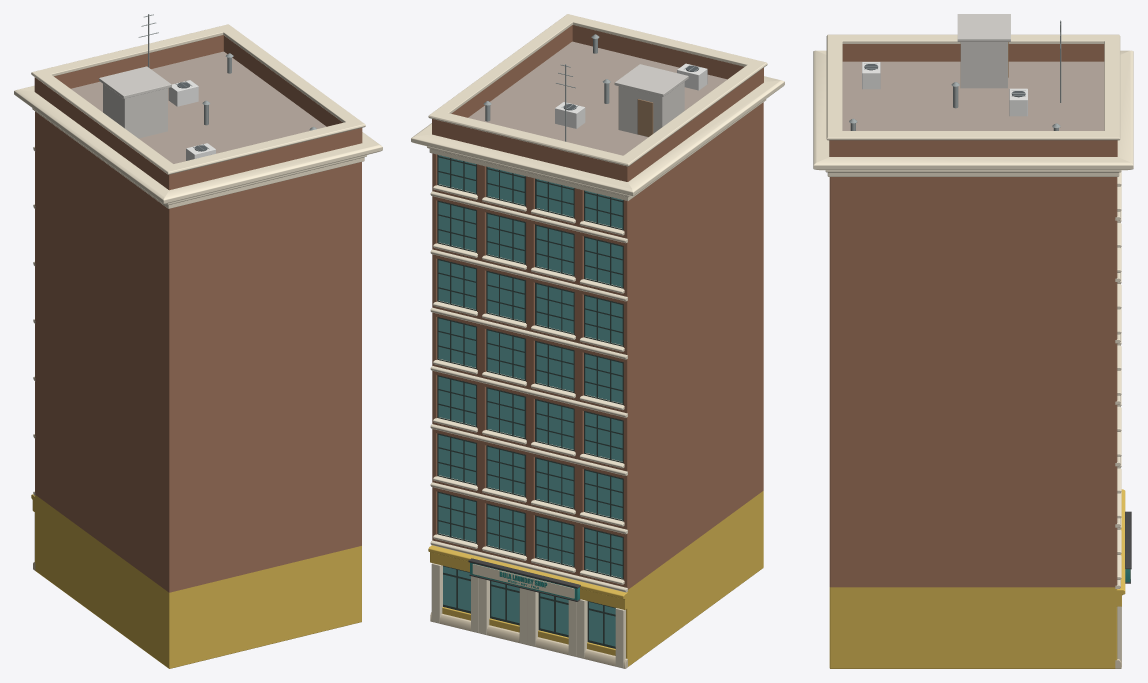
File: far_loft_18.glb
The picture shows the model from 3 angles, left to right: view 1: azimuth 30°, elevation 25°; view 2: azimuth 150°, elevation 25°; view 3: azimuth 270°, elevation 25°; orthographic projection. The views are drawn at different scales.
Parts seen in each view (by area): view 1: shell, trim, props; view 2: shell, trim, frames, props, sign_bula_laundry_shop; view 3: shell, trim, props, sign_bula_laundry_shop.
Part boxes in pixels (x1=…): shell: x1=35, y1=51, x2=361, y2=668; trim: x1=14, y1=24, x2=382, y2=570; props: x1=99, y1=14, x2=316, y2=160; shell: x1=432, y1=41, x2=763, y2=666; trim: x1=411, y1=14, x2=784, y2=668; frames: x1=437, y1=154, x2=623, y2=648; props: x1=483, y1=34, x2=707, y2=141; sign_bula_laundry_shop: x1=468, y1=558, x2=580, y2=601; shell: x1=829, y1=61, x2=1117, y2=668; trim: x1=813, y1=34, x2=1133, y2=668; props: x1=849, y1=14, x2=1061, y2=130; sign_bula_laundry_shop: x1=1125, y1=511, x2=1131, y2=583.
Bounding box in the file's own units: 13.2 × 31.88 × 15.6.
